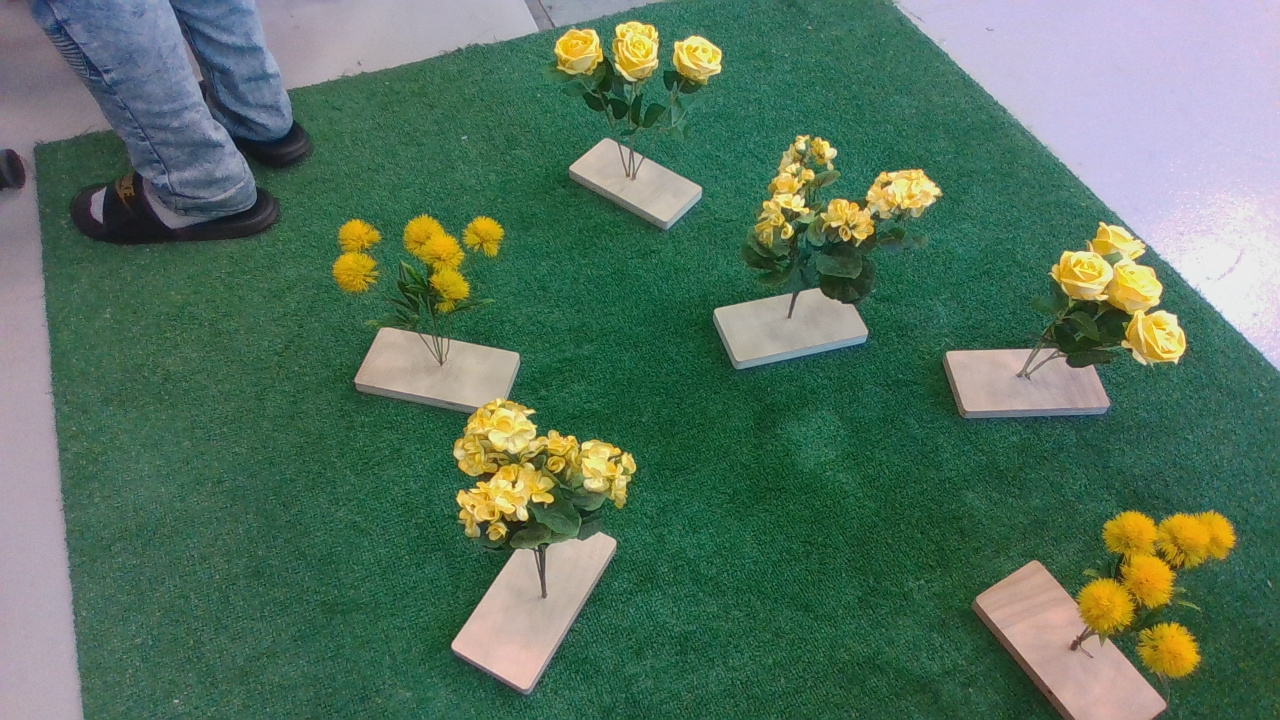dandelion: (1057, 506, 1253, 687), (327, 213, 531, 336)
geranium: (744, 131, 956, 311), (450, 402, 654, 559)
rose: (1027, 219, 1199, 391), (549, 19, 743, 141)
